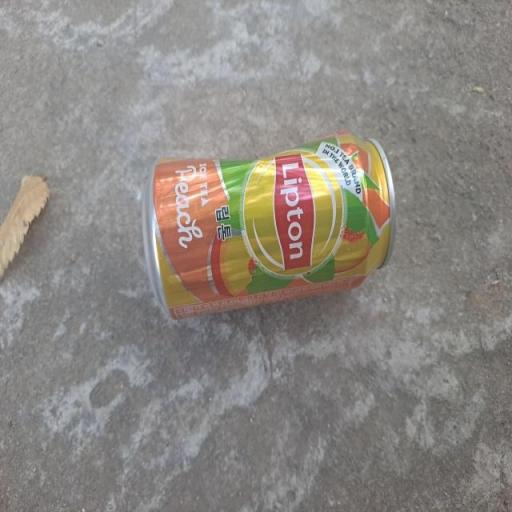metal: (124, 116, 410, 340)
